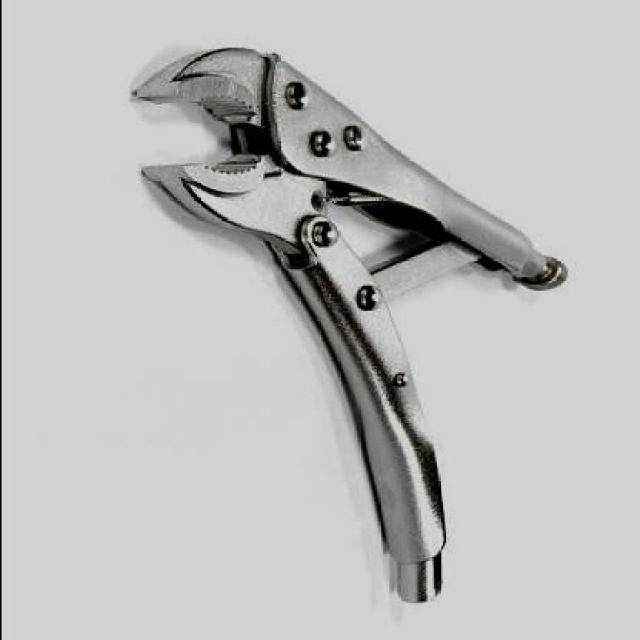pliers: (128, 41, 568, 604)
